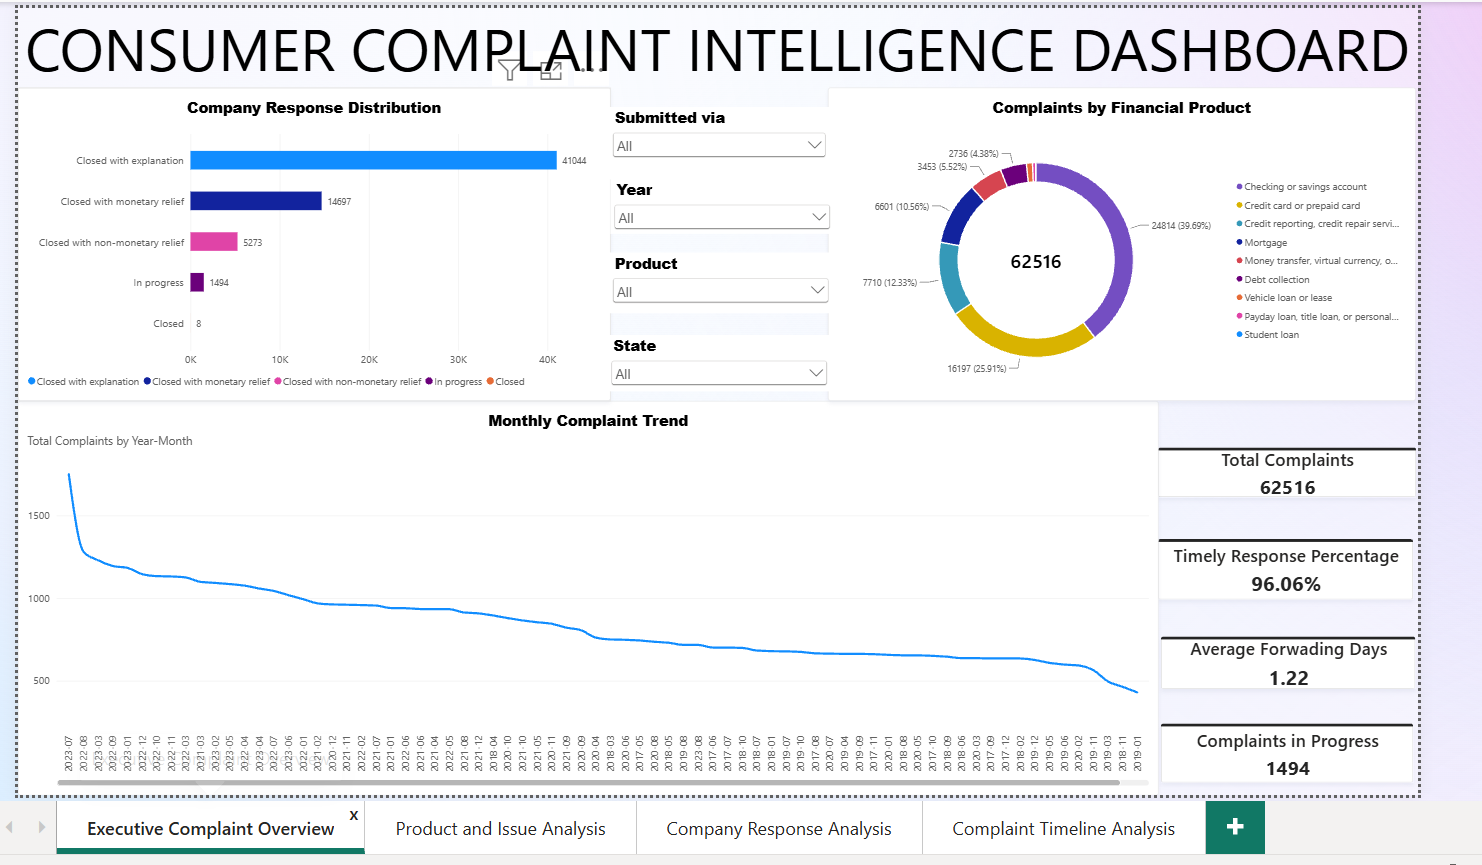

This screenshot's page, from the dashboard's own definition file:
{"tool":"powerbi","page":{"name":"Executive Complaint Overview","canvas":[1920,1080],"ordinal":0},"visuals":[{"type":"cardVisual","fields":{"Data":["Data.Total Complaints"]},"box":[1565.3,602.2,354.8,68.9],"z":0},{"type":"cardVisual","fields":{"Data":["Data.Timely Response Percentage"]},"box":[1565.3,727.9,350.8,83.1],"z":1000},{"type":"cardVisual","fields":{"Data":["Data.Average Forwading Days"]},"box":[1569.5,863.1,349.8,72.7],"z":2000},{"type":"cardVisual","fields":{"Data":["Data.Complaints in Progress"]},"box":[1569.3,981.3,346.7,81.1],"z":3000},{"type":"lineChart","title":"Monthly Complaint Trend","fields":{"Category":["Calendar.Year-Month"],"Y":["Data.Total Complaints"]},"box":[0,539.3,1565.3,541.4],"z":4000},{"type":"donutChart","title":"Complaints by Financial Product","fields":{"Category":["Data.Product"],"Y":["Data.Total Complaints"]},"box":[1111.6,109.1,806.9,430.2],"z":5000},{"type":"barChart","title":"Company Response Distribution","fields":{"Category":["Data.Company response to consumer"],"Series":["Data.Company response to consumer"],"Y":["Data.Total Complaints"]},"box":[0,109.1,813.1,430.2],"z":6000},{"type":"slicer","fields":{"Values":["Calendar.Year"]},"box":[813.1,235.2,306.2,75],"z":7000},{"type":"slicer","fields":{"Values":["Data.Product"]},"box":[811,334.5,306.2,83.1],"z":8000},{"type":"slicer","fields":{"Values":["Data.State"]},"box":[809,448.1,306.2,77],"z":9000},{"type":"slicer","fields":{"Values":["Data.Submitted via"]},"box":[811,135.8,302.1,99.4],"z":10000},{"type":"textbox","box":[0,0,1920.1,109.5],"z":10001}]}

Visuals, with their boxes on the page's 1920x1080 design canvas (x1, y1, x2, y2). These are canvas units, not pixel positions in the 1482x865 screenshot, which may show the page scaled, cropped or inside an application window:
cardVisual - Data.Total Complaints: rect(1565, 602, 1920, 671)
cardVisual - Data.Timely Response Percentage: rect(1565, 728, 1916, 811)
cardVisual - Data.Average Forwading Days: rect(1570, 863, 1919, 936)
cardVisual - Data.Complaints in Progress: rect(1569, 981, 1916, 1062)
"Monthly Complaint Trend" lineChart: rect(0, 539, 1565, 1081)
"Complaints by Financial Product" donutChart: rect(1112, 109, 1918, 539)
"Company Response Distribution" barChart: rect(0, 109, 813, 539)
slicer - Calendar.Year: rect(813, 235, 1119, 310)
slicer - Data.Product: rect(811, 334, 1117, 418)
slicer - Data.State: rect(809, 448, 1115, 525)
slicer - Data.Submitted via: rect(811, 136, 1113, 235)
textbox: rect(0, 0, 1920, 110)
